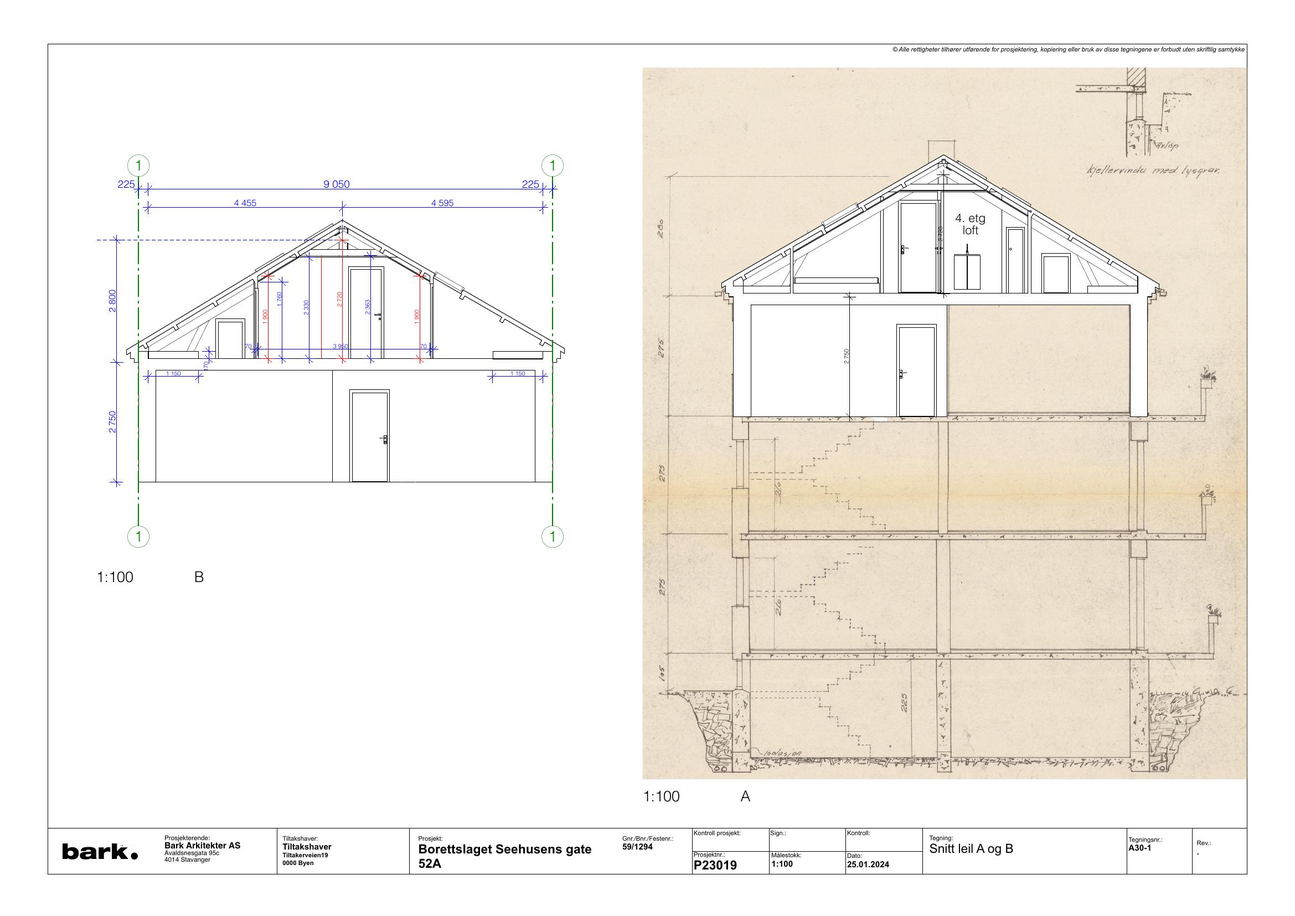snitt: (720, 141, 1220, 773), (124, 220, 565, 485)
